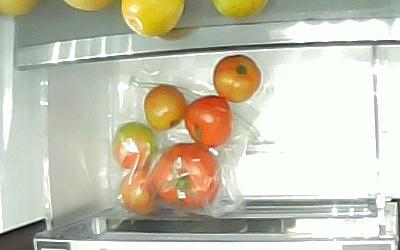tomato: (182, 93, 232, 148), (211, 53, 261, 103), (142, 82, 187, 132)
tomato_vinyl: (150, 141, 221, 209), (110, 120, 160, 171), (118, 168, 159, 215)
